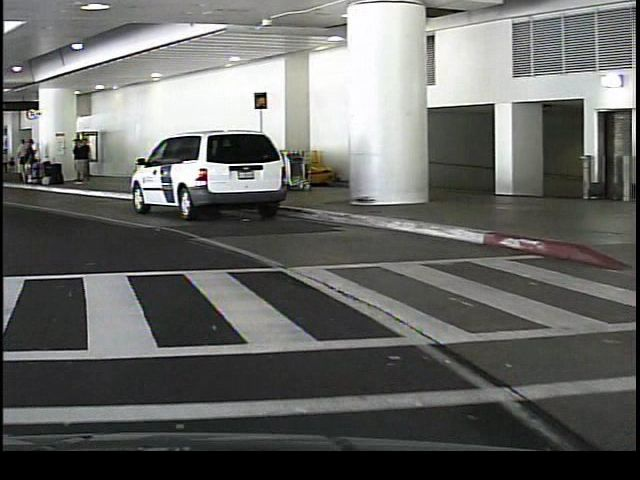person: (11, 132, 27, 184)
